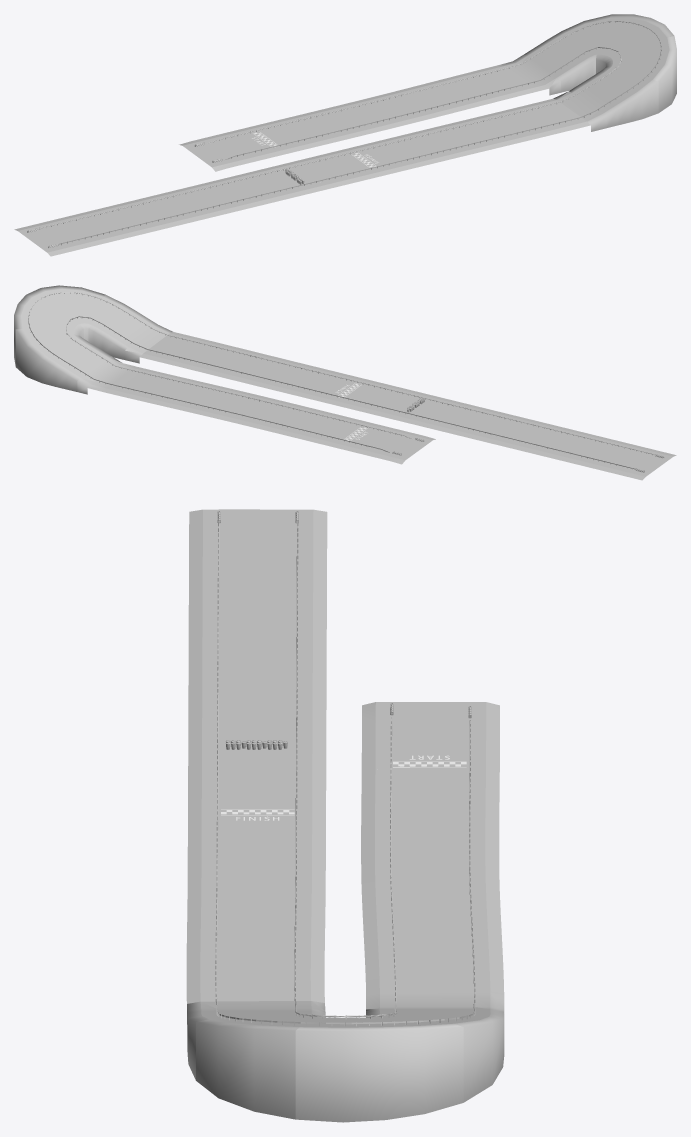
File: Road10D20.fbx
3 renders of one model, top to bottom at view 1: azimuth 30°, elevation 25°; view 2: azimuth 150°, elevation 25°; view 3: azimuth 270°, elevation 25°, orthographic. The views are drawn at different scales.
Parts seen in each view (by area): view 1: Markers0.019, Markers7.019, Markers1.019, Markers2.019, Markers8.019, SCutR0.019, SCutR3.019, WBeam2R.019, Markers3.019, Markers6.019, WBeam2L.019, SCutL0.019 (+18 smaller); view 2: Markers0.019, Markers7.019, Markers1.019, Markers2.019, Markers8.019, SCutR6.019, SCutL0.019, WBeam2R.019, Markers3.019, Markers6.019, SCutR0.019, WBeam2L.019 (+18 smaller); view 3: Markers0.019, SCutR5.019, Markers1.019, Markers2.019, Markers7.019, Markers8.019, SCutR4.019, SCutR0.019, SCutL0.019, Markers9.019, SCutL1.019, SCutR1.019 (+13 smaller).
Boxes of the visible parts, x1,y1,x2,y2 form: Markers0.019: (22, 177, 275, 249); Markers7.019: (383, 59, 552, 116); Markers1.019: (255, 139, 434, 192); Markers2.019: (414, 103, 582, 154); Markers8.019: (261, 101, 403, 146); SCutR0.019: (43, 193, 283, 256); SCutR3.019: (583, 78, 658, 131); WBeam2R.019: (58, 21, 661, 245); Markers3.019: (561, 69, 646, 118); Markers6.019: (532, 23, 607, 74); WBeam2L.019: (37, 47, 621, 229); SCutL0.019: (14, 173, 254, 233); Markers0.019: (433, 406, 669, 473); Markers7.019: (85, 360, 245, 412); Markers1.019: (284, 370, 451, 420); Markers2.019: (147, 336, 302, 384); Markers8.019: (227, 398, 359, 440); SCutR6.019: (15, 329, 84, 391); SCutL0.019: (425, 421, 649, 480); WBeam2R.019: (28, 292, 654, 454); Markers3.019: (93, 301, 165, 350); Markers6.019: (30, 330, 104, 374); SCutR0.019: (453, 402, 676, 459); WBeam2L.019: (66, 316, 635, 469); Markers0.019: (218, 509, 297, 721); SCutR5.019: (295, 1022, 463, 1122); Markers1.019: (217, 721, 296, 866); Markers2.019: (216, 867, 296, 1001); Markers7.019: (391, 880, 474, 1009); Markers8.019: (390, 769, 470, 880); SCutR4.019: (196, 1019, 303, 1119); SCutR0.019: (188, 509, 218, 723); SCutL0.019: (297, 509, 327, 723); Markers9.019: (391, 702, 470, 769); SCutL1.019: (296, 722, 326, 869); SCutR1.019: (187, 721, 217, 868).
Bounding box in the file's own units: 26893 × 1912 × 6043.
